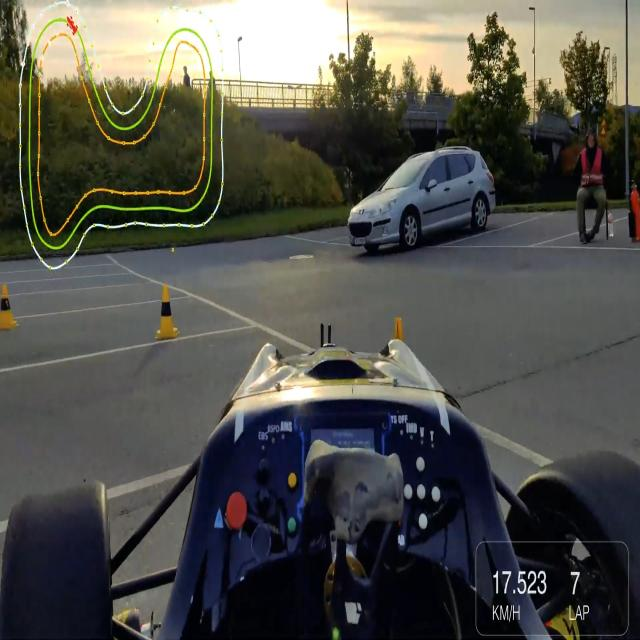yellow_cone: (156, 284, 180, 339), (0, 282, 17, 330)
